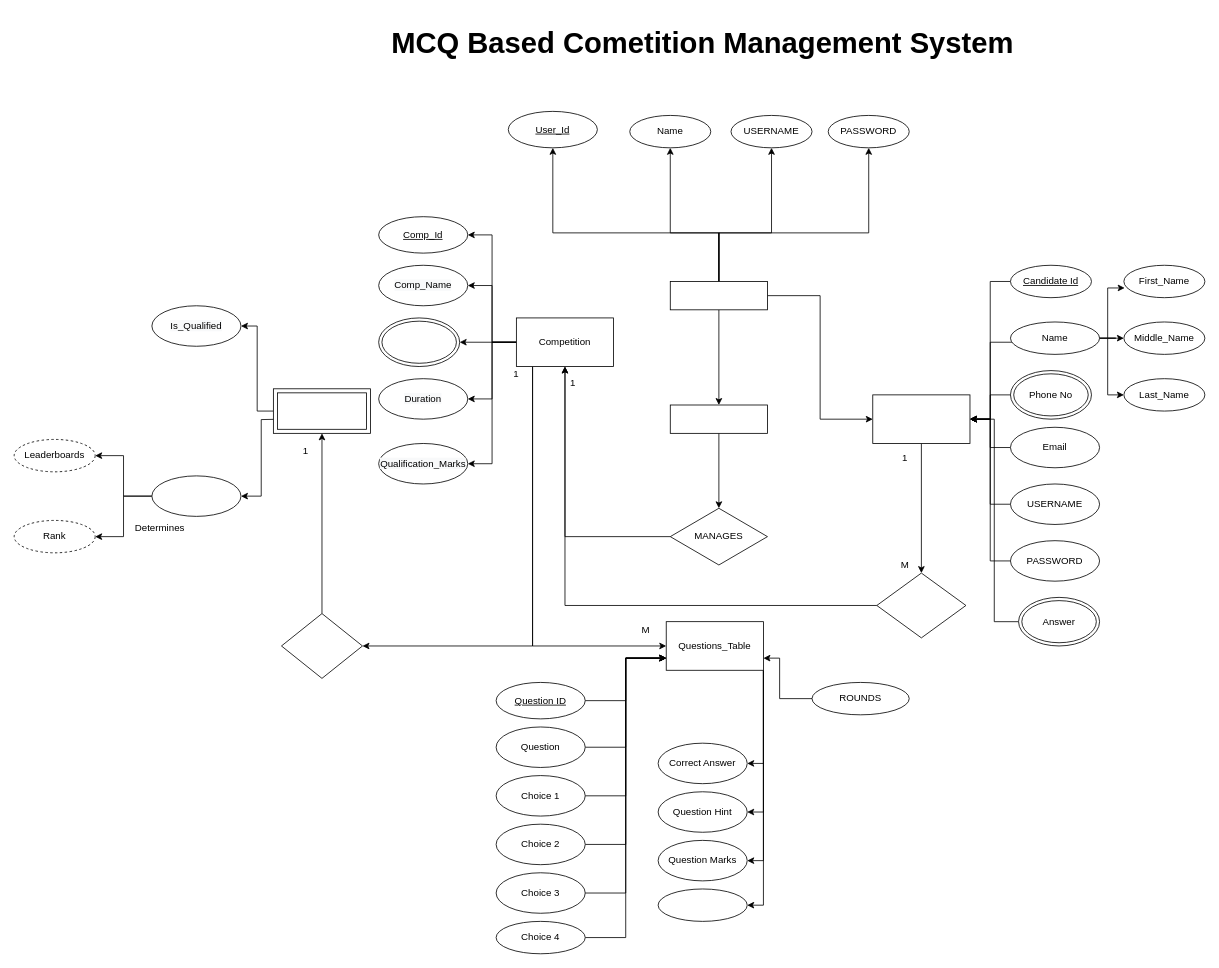
The diagram is 1219 pixels wide and 968 high, and some of its shapes have lost their labels. Each missing label, with the box of its shape:
ADMIN: (669, 404, 767, 433)
APPEAR FOR: (876, 572, 966, 638)
Comp. Duration: (657, 888, 747, 921)
Has: (281, 613, 362, 678)
Result: (273, 388, 371, 433)
Round: (378, 317, 460, 367)
Score: (151, 475, 241, 516)
Student: (872, 394, 970, 443)
User: (669, 281, 767, 310)
